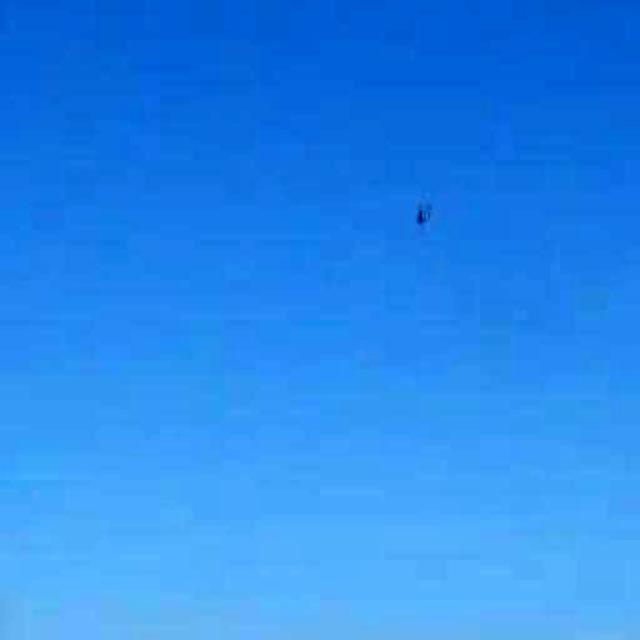drone: (396, 181, 446, 242)
